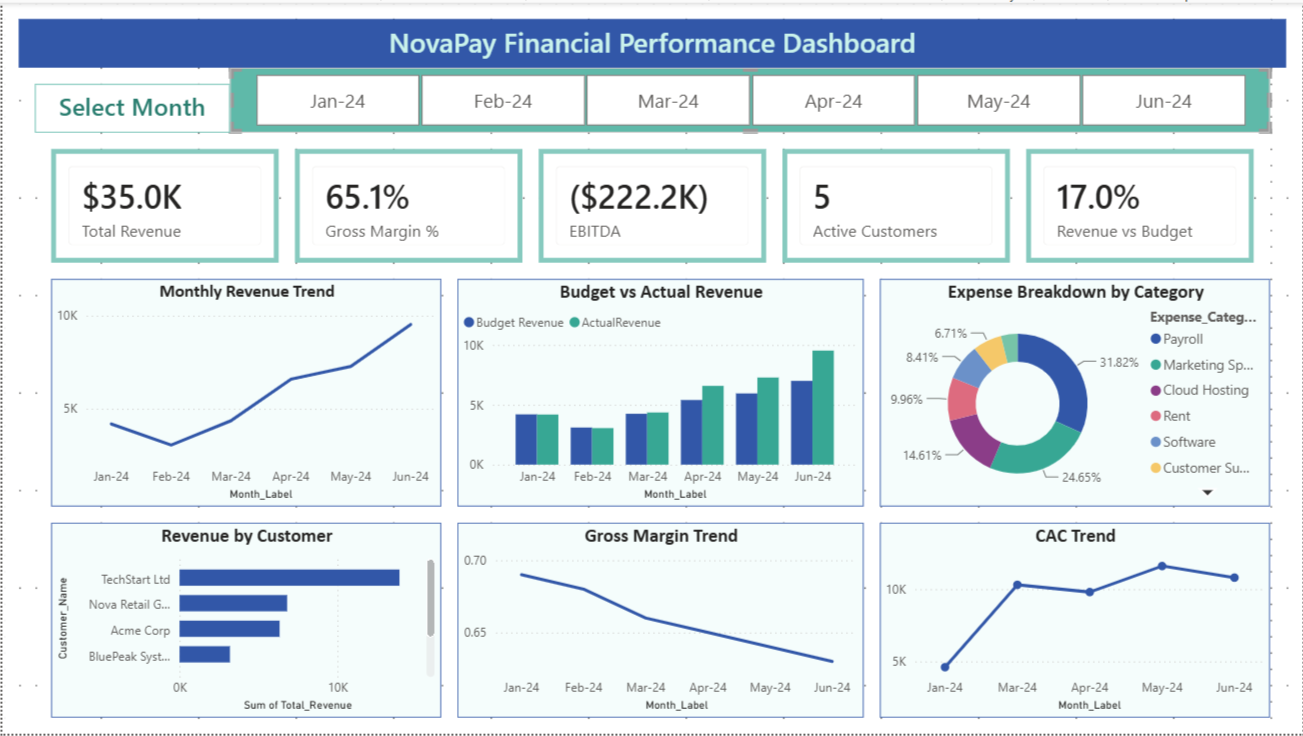

Layout of this report page (visuals, bound fields, positions):
{"tool":"powerbi","page":{"name":"Executive Dashboard","canvas":[1280,720],"ordinal":0},"visuals":[{"type":"slicer","fields":{"Values":["tblDate.Month_Label"]},"box":[224,64,1024,64],"z":0},{"type":"cardVisual","fields":{"Data":["Monthly_Summary.Total Revenue"]},"box":[48,144,224,112],"z":1000},{"type":"cardVisual","fields":{"Data":["Monthly_Summary.Gross Margin %"]},"box":[288,144,224,112],"z":2000},{"type":"cardVisual","fields":{"Data":["Monthly_Summary.Total EBITDA"]},"box":[528,144,224,112],"z":3000},{"type":"cardVisual","fields":{"Data":["tblKPI.Active Customers KPI"]},"box":[768,144,224,112],"z":4000},{"type":"cardVisual","fields":{"Data":["Monthly_Summary.Revenue vs Budget %"]},"box":[1008,144,224,112],"z":5000},{"type":"lineChart","title":"Monthly Revenue Trend","fields":{"Category":["tblDate.Month_Label"],"Y":["Sum(Monthly_Summary.Actual_Revenue)"]},"box":[48,272,384,224],"z":6000},{"type":"clusteredColumnChart","title":"Budget vs Actual Revenue","fields":{"Category":["tblDate.Month_Label"],"Y":["Sum(Budget_vs_Actual.Budget_Revenue)","Sum(Budget_vs_Actual.Actual_Revenue)"]},"box":[448,272,400,224],"z":7000},{"type":"donutChart","title":"Expense Breakdown by Category","fields":{"Category":["tblExpenses.Expense_Category"],"Y":["Sum(tblExpenses.Actual_Expense)"]},"box":[864,272,384,224],"z":8000},{"type":"barChart","title":"Revenue by Customer","fields":{"Category":["tblCustomers.Customer_Name"],"Y":["Sum(tblRevenue.Total_Revenue)"]},"box":[48,512,384,192],"z":9000},{"type":"lineChart","title":"Gross Margin Trend","fields":{"Category":["tblDate.Month_Label"],"Y":["Avg(tblKPI.Gross_Margin)"]},"box":[448,512,400,192],"z":10000},{"type":"lineChart","title":"CAC Trend","fields":{"Category":["tblDate.Month_Label"],"Y":["Avg(tblKPI.CAC)"]},"box":[864,512,384,192],"z":11000},{"type":"textbox","box":[32,80,192,48],"z":12000},{"type":"textbox","box":[16,16,1248,48],"z":13000}]}

Visuals, with their boxes in screenshot pixels (x1, y1, x2, y2), scaled from the page's 1280x720 canvas onto the 1303x736 screenshot:
slicer - tblDate.Month_Label: pyautogui.locateOnScreen(228, 65, 1270, 131)
cardVisual - Monthly_Summary.Total Revenue: pyautogui.locateOnScreen(49, 147, 277, 262)
cardVisual - Monthly_Summary.Gross Margin %: pyautogui.locateOnScreen(293, 147, 521, 262)
cardVisual - Monthly_Summary.Total EBITDA: pyautogui.locateOnScreen(537, 147, 766, 262)
cardVisual - tblKPI.Active Customers KPI: pyautogui.locateOnScreen(782, 147, 1010, 262)
cardVisual - Monthly_Summary.Revenue vs Budget %: pyautogui.locateOnScreen(1026, 147, 1254, 262)
"Monthly Revenue Trend" lineChart: pyautogui.locateOnScreen(49, 278, 440, 507)
"Budget vs Actual Revenue" clusteredColumnChart: pyautogui.locateOnScreen(456, 278, 863, 507)
"Expense Breakdown by Category" donutChart: pyautogui.locateOnScreen(880, 278, 1270, 507)
"Revenue by Customer" barChart: pyautogui.locateOnScreen(49, 523, 440, 720)
"Gross Margin Trend" lineChart: pyautogui.locateOnScreen(456, 523, 863, 720)
"CAC Trend" lineChart: pyautogui.locateOnScreen(880, 523, 1270, 720)
textbox: pyautogui.locateOnScreen(33, 82, 228, 131)
textbox: pyautogui.locateOnScreen(16, 16, 1287, 65)
